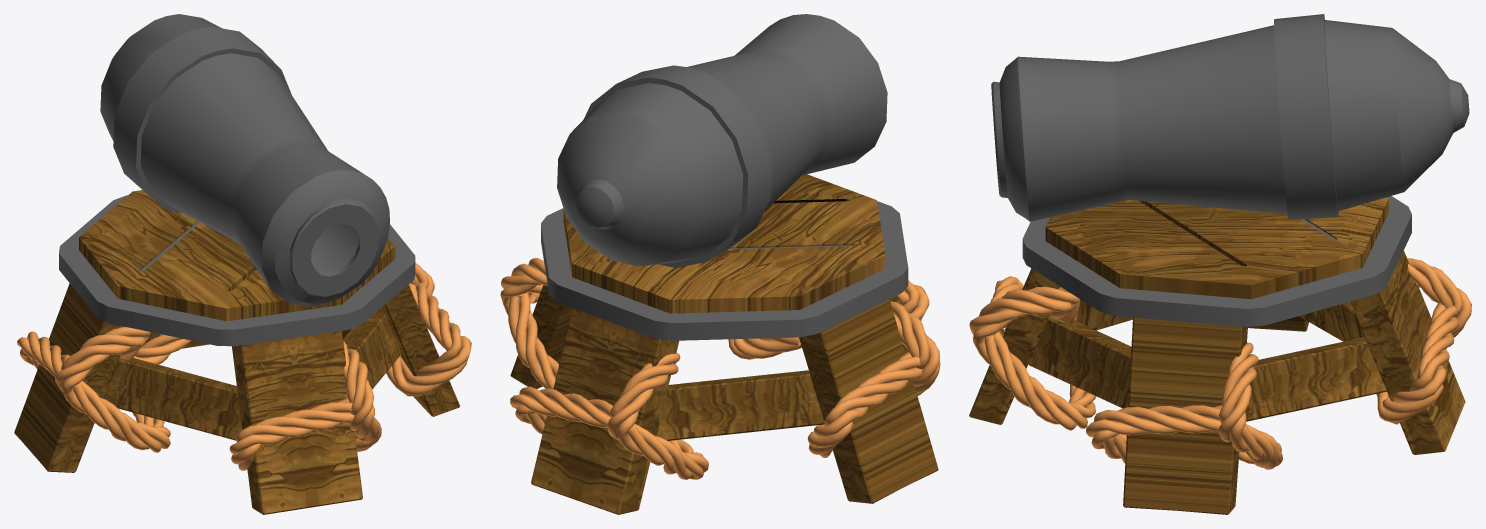
The model's file is cannon.glb.
3 renders of one model, left to right at view 1: azimuth 30°, elevation 25°; view 2: azimuth 150°, elevation 25°; view 3: azimuth 270°, elevation 25°, orthographic. The views are drawn at different scales.
Parts seen in each view (by area): view 1: table_top.001_6, Circle_1, table_top_0, Circle.004_5, Circle.003_4, Circle.002_3, Circle.001_2; view 2: table_top.001_6, Circle_1, table_top_0, Circle.001_2, Circle.004_5, Circle.002_3, Circle.003_4; view 3: Circle_1, table_top.001_6, table_top_0, Circle.002_3, Circle.003_4, Circle.001_2.
Part boxes in pixels (bbox=[...]): table_top.001_6: bbox=[14, 190, 459, 514]; Circle_1: bbox=[100, 14, 389, 306]; table_top_0: bbox=[59, 195, 415, 346]; Circle.004_5: bbox=[17, 327, 170, 452]; Circle.003_4: bbox=[229, 341, 381, 470]; Circle.002_3: bbox=[386, 263, 471, 396]; Circle.001_2: bbox=[133, 334, 192, 364]; table_top.001_6: bbox=[510, 174, 938, 514]; Circle_1: bbox=[557, 14, 887, 267]; table_top_0: bbox=[541, 199, 908, 340]; Circle.001_2: bbox=[510, 353, 708, 479]; Circle.004_5: bbox=[807, 301, 940, 457]; Circle.002_3: bbox=[500, 258, 558, 389]; Circle.003_4: bbox=[728, 280, 929, 359]; Circle_1: bbox=[991, 14, 1469, 221]; table_top.001_6: bbox=[969, 197, 1465, 514]; table_top_0: bbox=[1022, 196, 1411, 327]; Circle.002_3: bbox=[1086, 342, 1282, 469]; Circle.003_4: bbox=[969, 276, 1096, 430]; Circle.001_2: bbox=[1376, 258, 1471, 424].
Size of the model in its own units: 2.18 by 1.89 by 2.17.
Materials: 4 (1 with a texture image).
